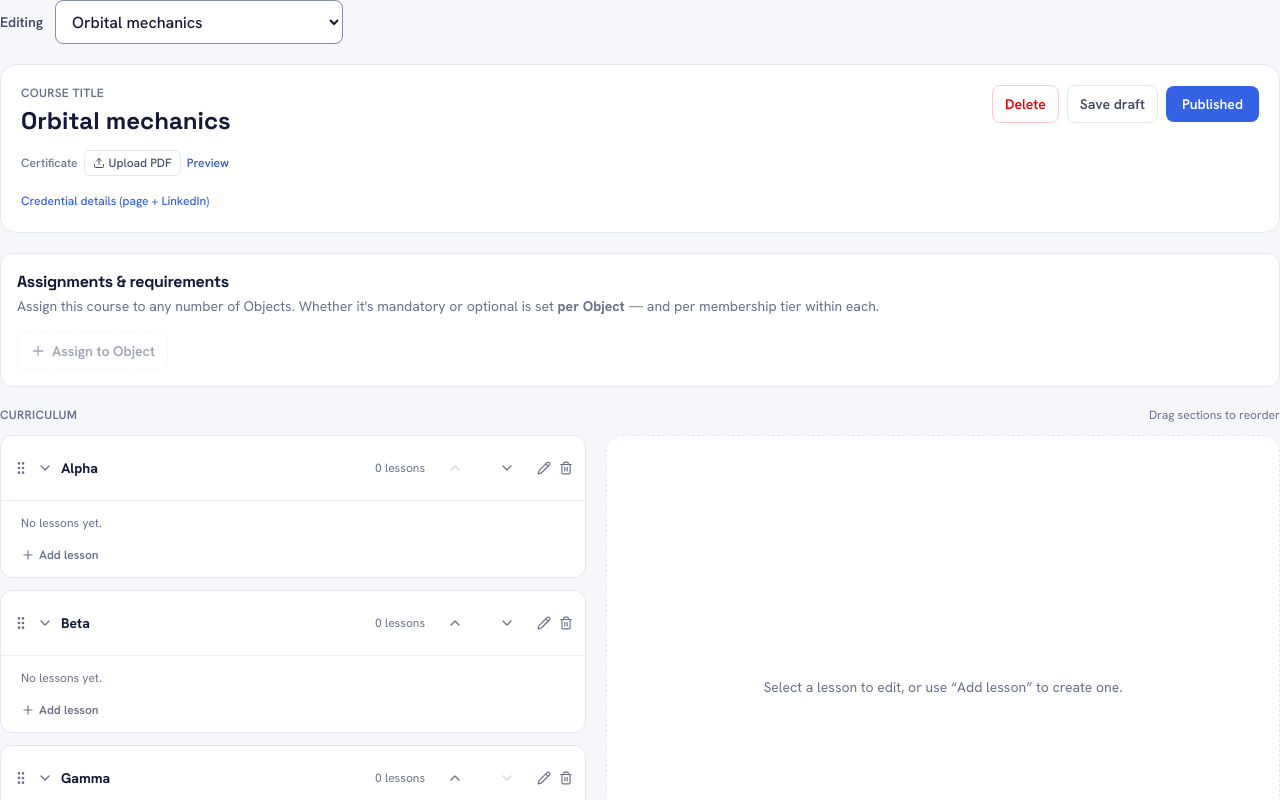
CourseBuilder curriculum — reordering without dragging (WCAG 2.5.7) › moves a section one step, saves the new order and keeps focus on the arrow
Click the button named "Move Beta down": [507, 623] box [485,601,529,645]
(page scrolled)
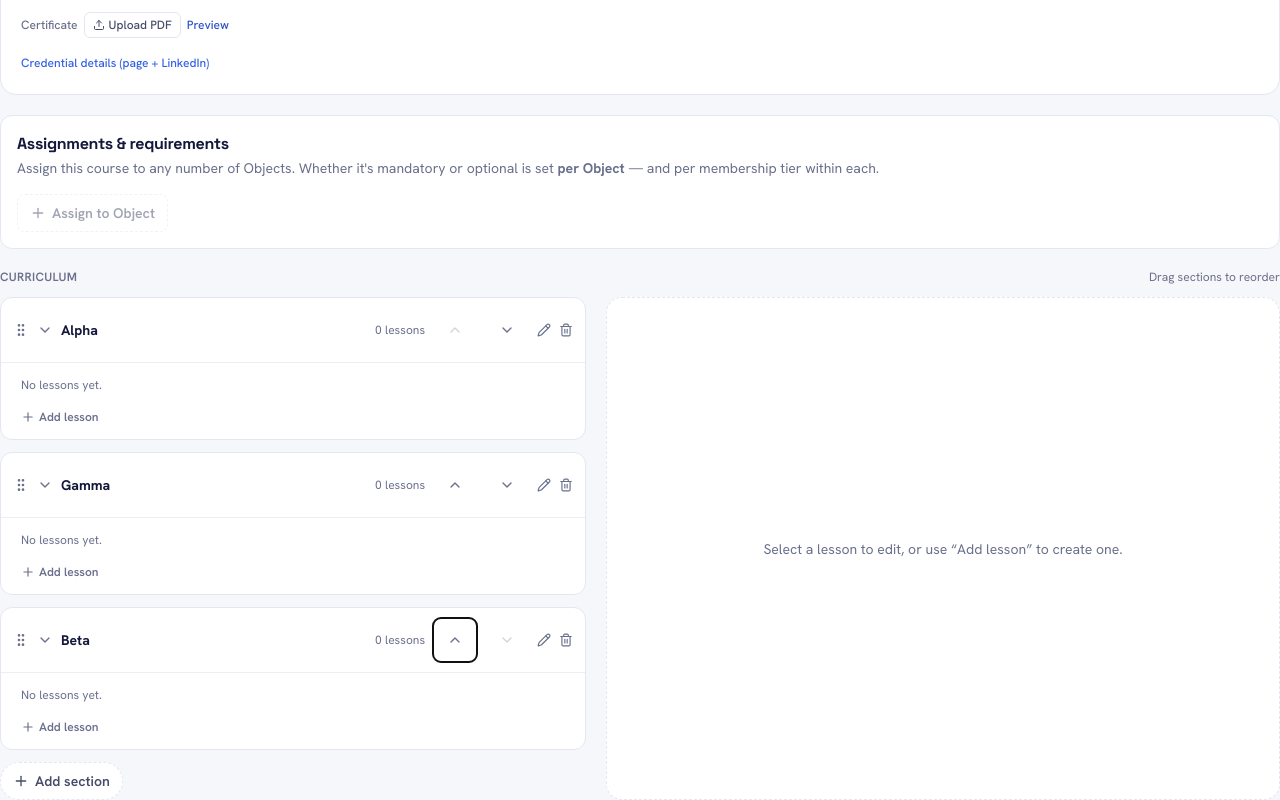
Result: the button named "Move Beta down" is disabled at [485,618,529,662]
